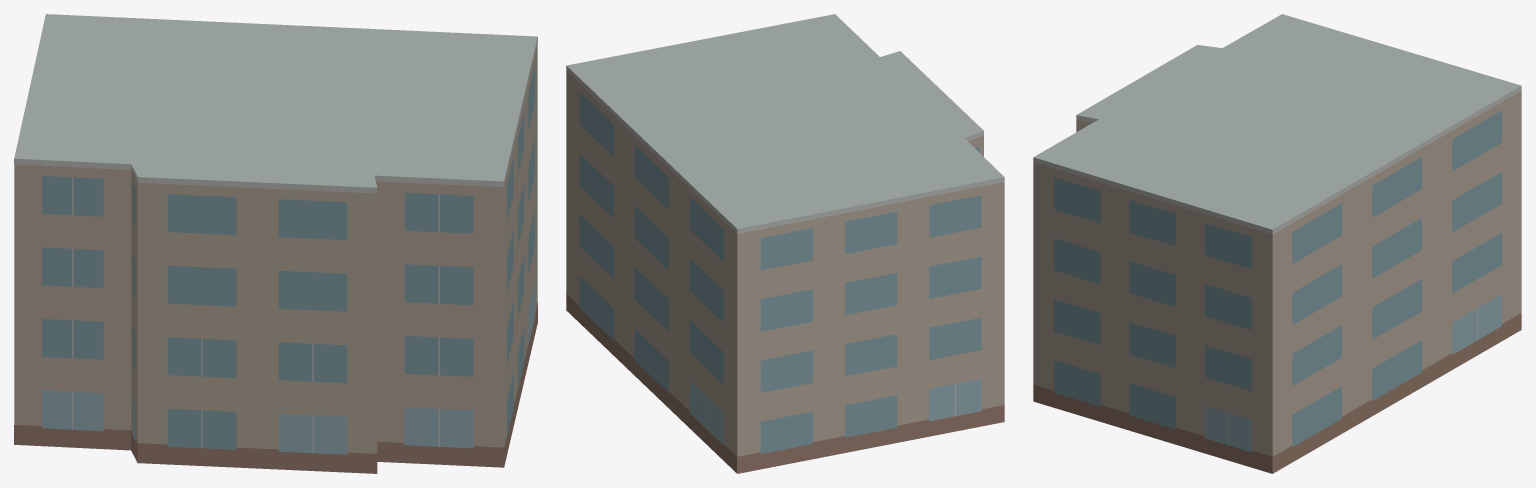
The model's file is survey-upis-32833745.glb.
The picture shows the model from 3 angles, left to right: view 1: azimuth 30°, elevation 25°; view 2: azimuth 150°, elevation 25°; view 3: azimuth 270°, elevation 25°; orthographic projection. The views are drawn at different scales.
Parts seen in each view (by area): view 1: survey-upis-32833745.tmp; view 2: survey-upis-32833745.tmp; view 3: survey-upis-32833745.tmp.
Part boxes in pixels (<box>): survey-upis-32833745.tmp: <box>14,14,537,473</box>; survey-upis-32833745.tmp: <box>566,14,1004,473</box>; survey-upis-32833745.tmp: <box>1033,14,1521,473</box>.
Size of the model in its own units: 23.03 by 12.15 by 22.04.
